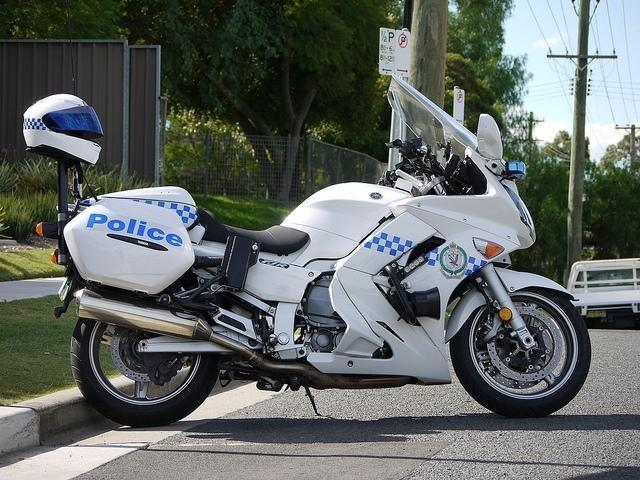motorcycle: (22, 71, 596, 426)
truck: (568, 258, 640, 328)
